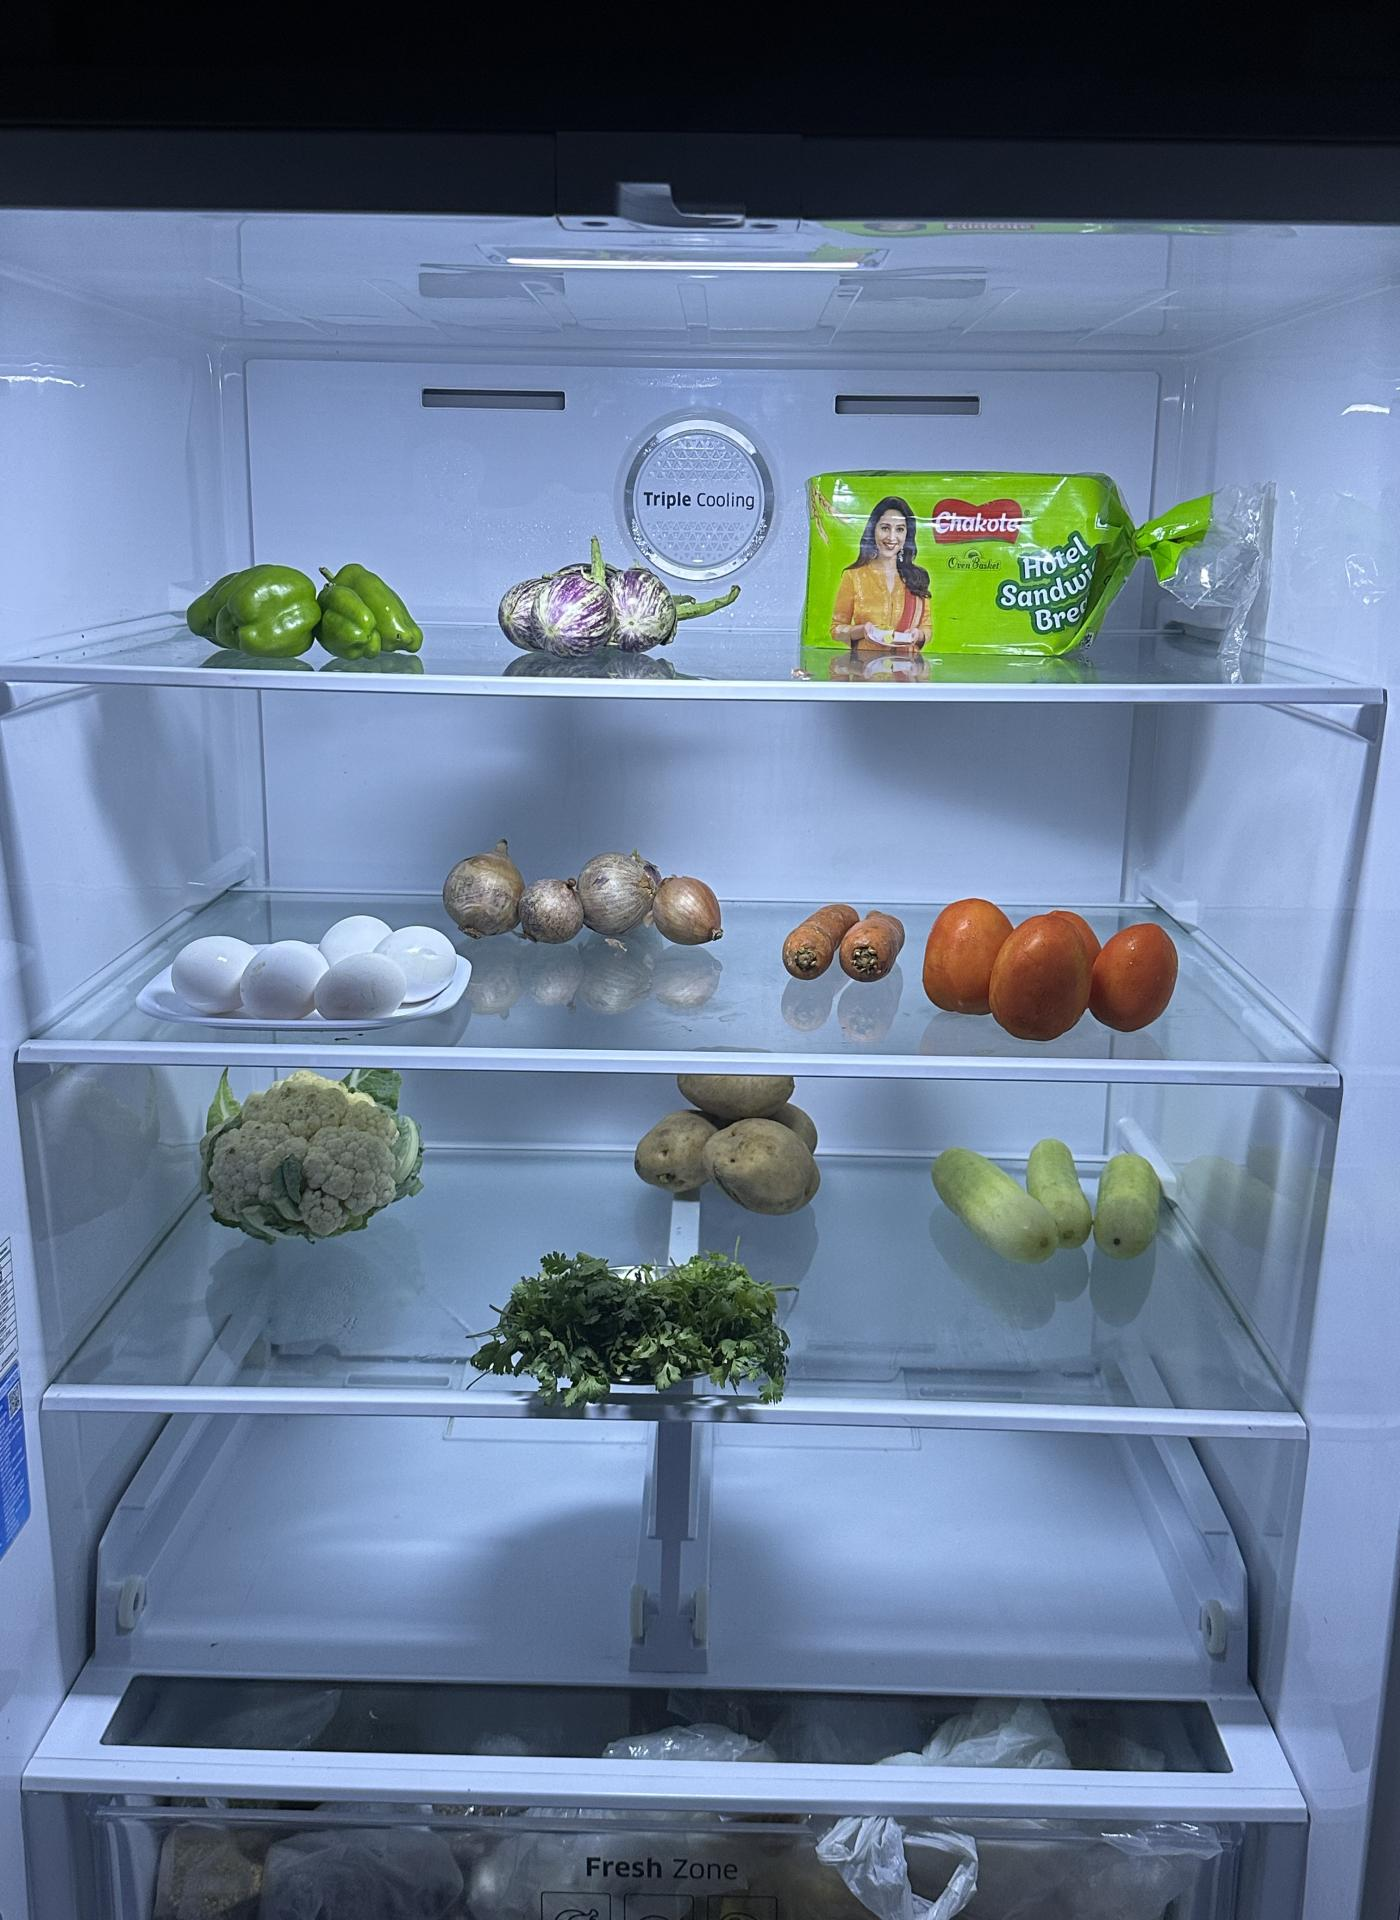bread: (805, 467, 1155, 677)
brinjal: (496, 553, 693, 665)
capsicum: (185, 532, 431, 650)
carrots: (781, 885, 909, 991)
cauliflower: (197, 1070, 420, 1243)
coriander: (479, 1245, 793, 1400)
cucumber: (926, 1121, 1164, 1264)
egg: (165, 914, 455, 1023)
ginger: (441, 838, 723, 956)
potato: (635, 1063, 832, 1200)
tomato: (918, 884, 1184, 1039)
